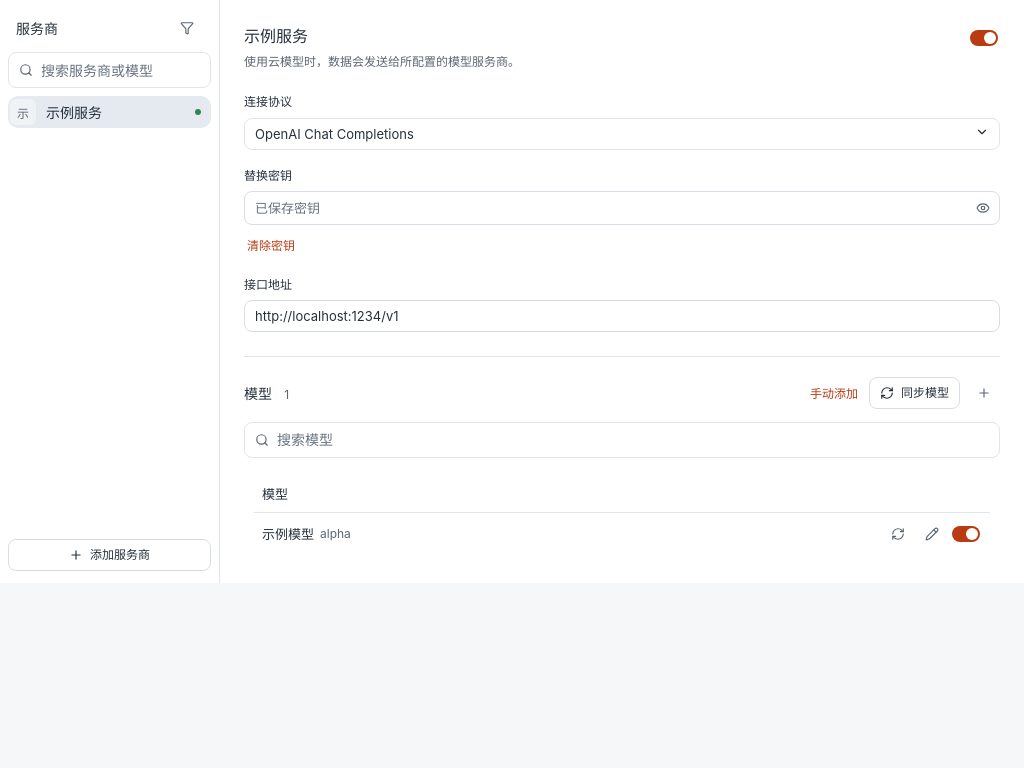
Scenario: 编辑抽屉的容量预设使用上游精确值并自动保存，关闭保留结果
Click the button named "编辑示例模型" at (932, 534), box x1=916 y1=518 x2=948 y2=550
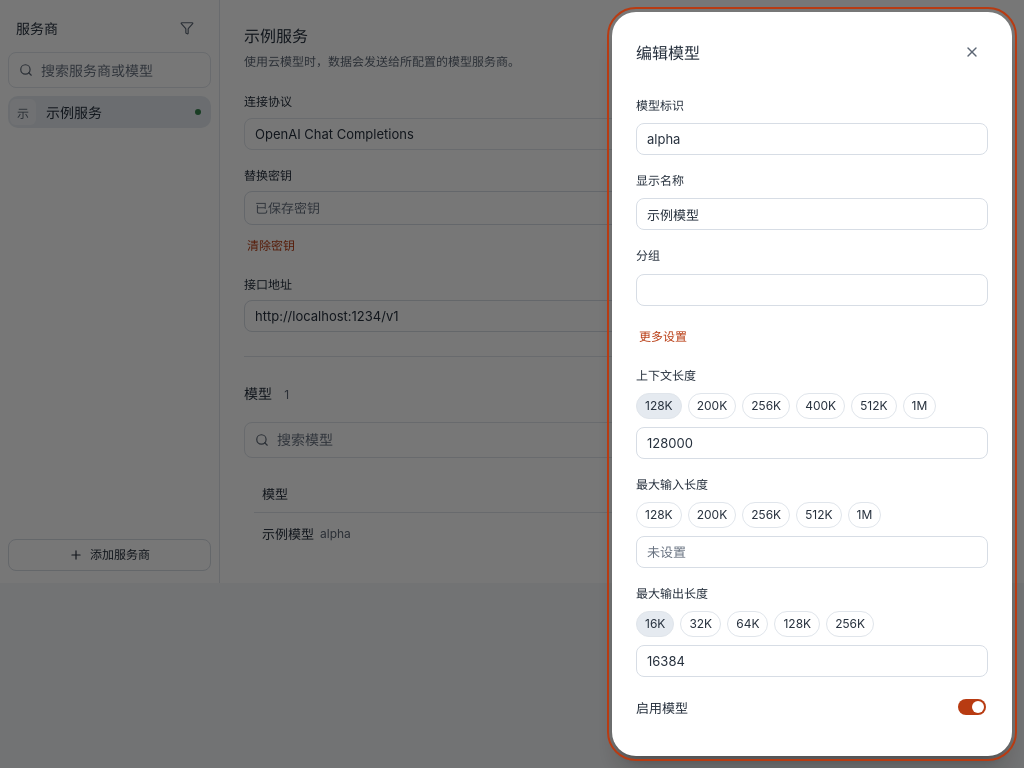
Click the button named "上下文长度: 256K (262144)" at (766, 406), box x1=742 y1=393 x2=790 y2=419
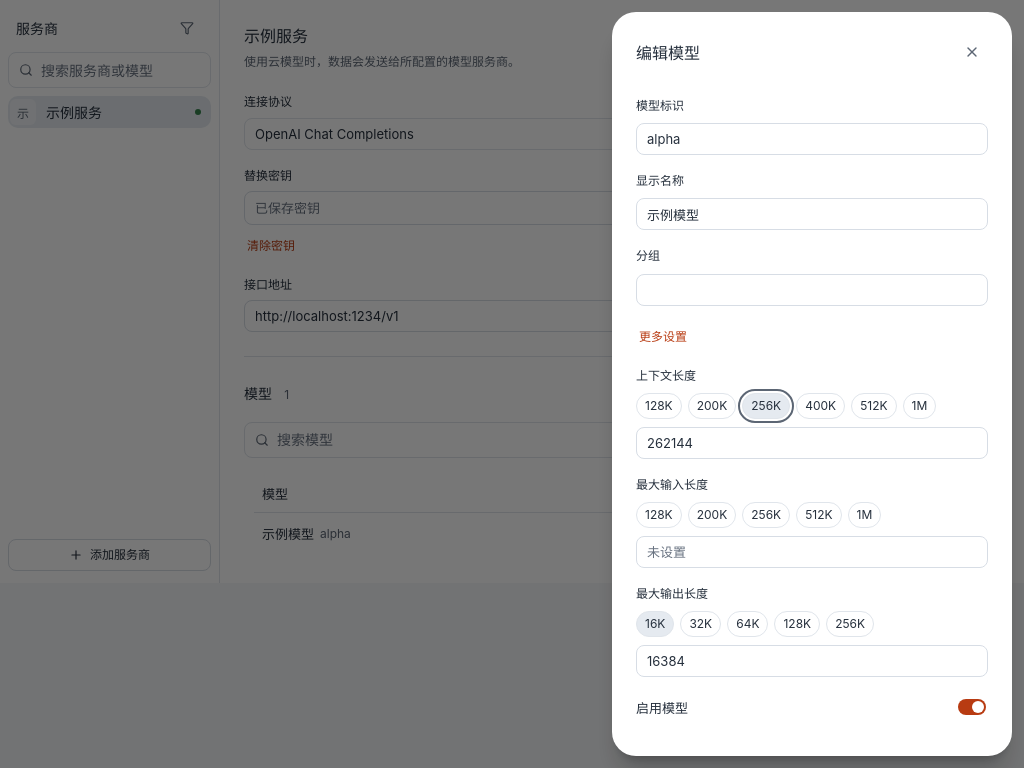
Now the button named "最大输入长度: 256K (256000)" is shown, box x1=742 y1=502 x2=790 y2=528
Now the number field labelled "上下文长度" holds "262144", box x1=636 y1=427 x2=988 y2=459
Click the button named "关闭编辑模型" at (972, 52), box x1=956 y1=36 x2=988 y2=68
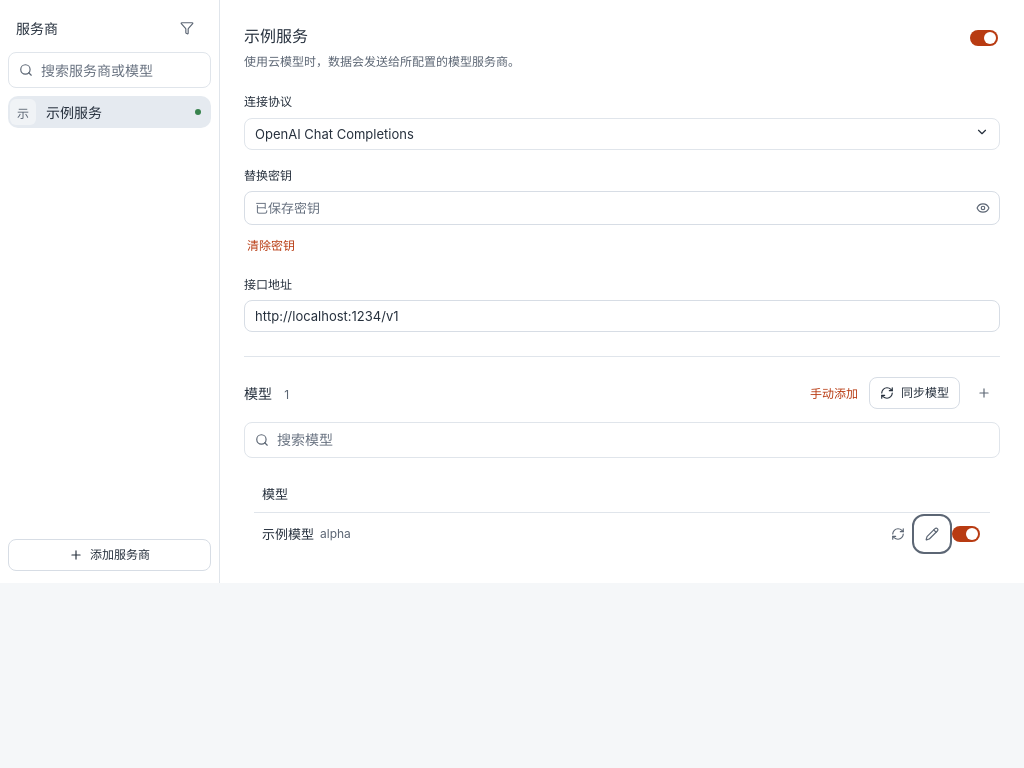
Now the dialog is gone
